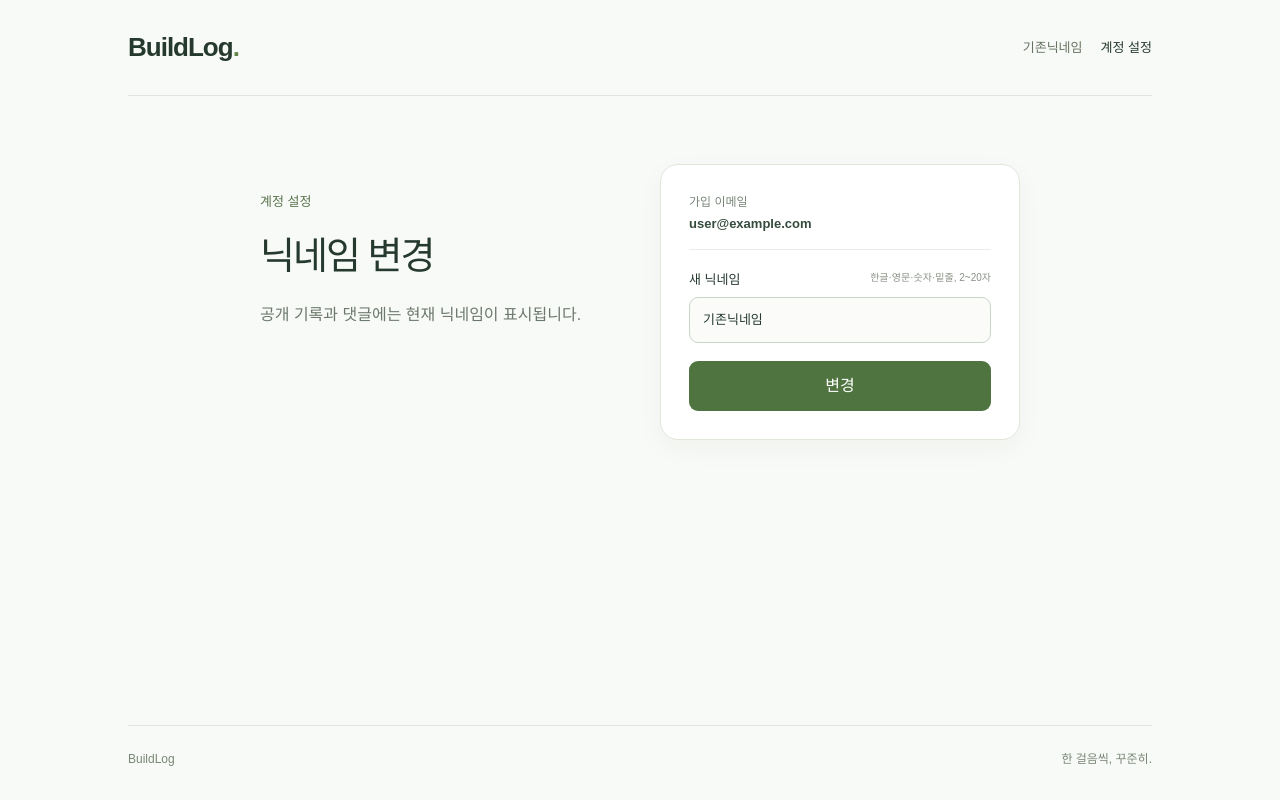
Test: logged-in user can change their nickname
Replace the text in the field labelled "새 닉네임 한글·영문·숫자·밑줄, 2~20자" with "새닉네임": [840, 320] box [689,297,991,342]
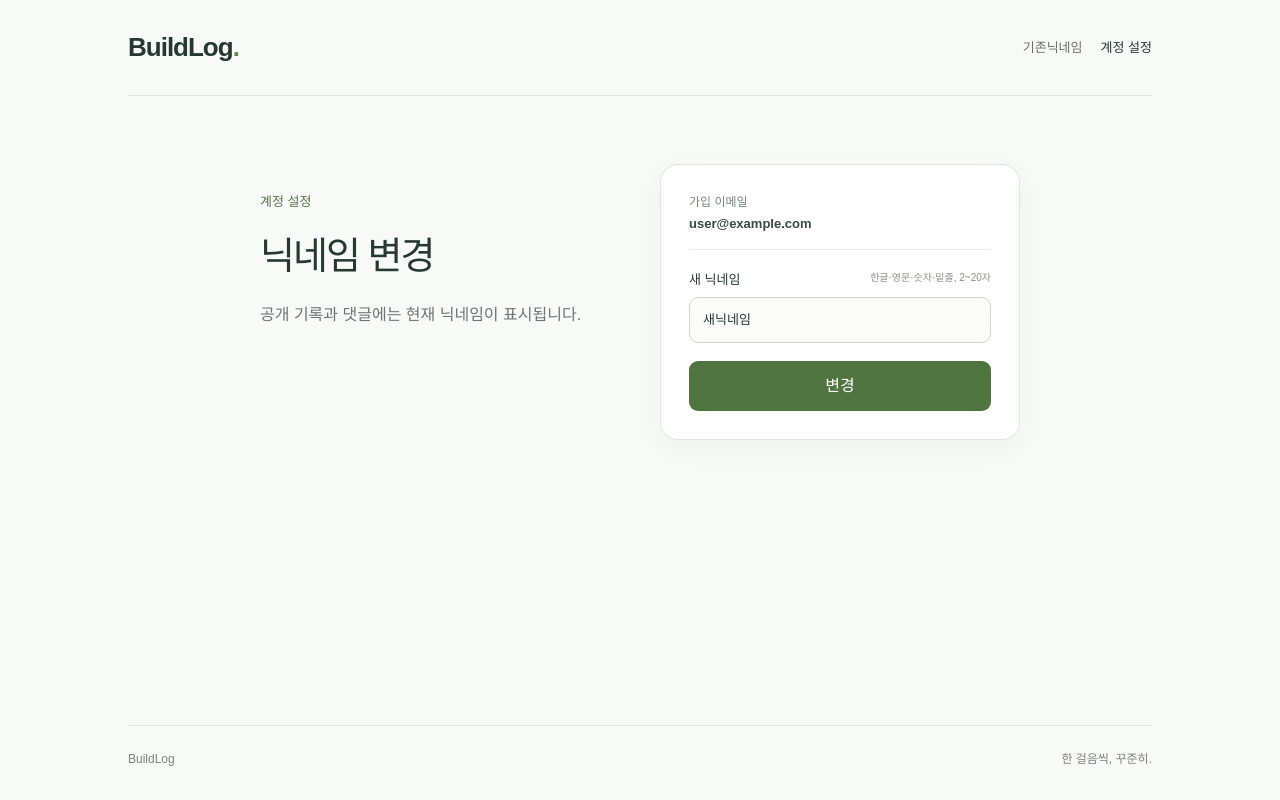
Click the button "변경": [840, 386] box [689,360,991,410]
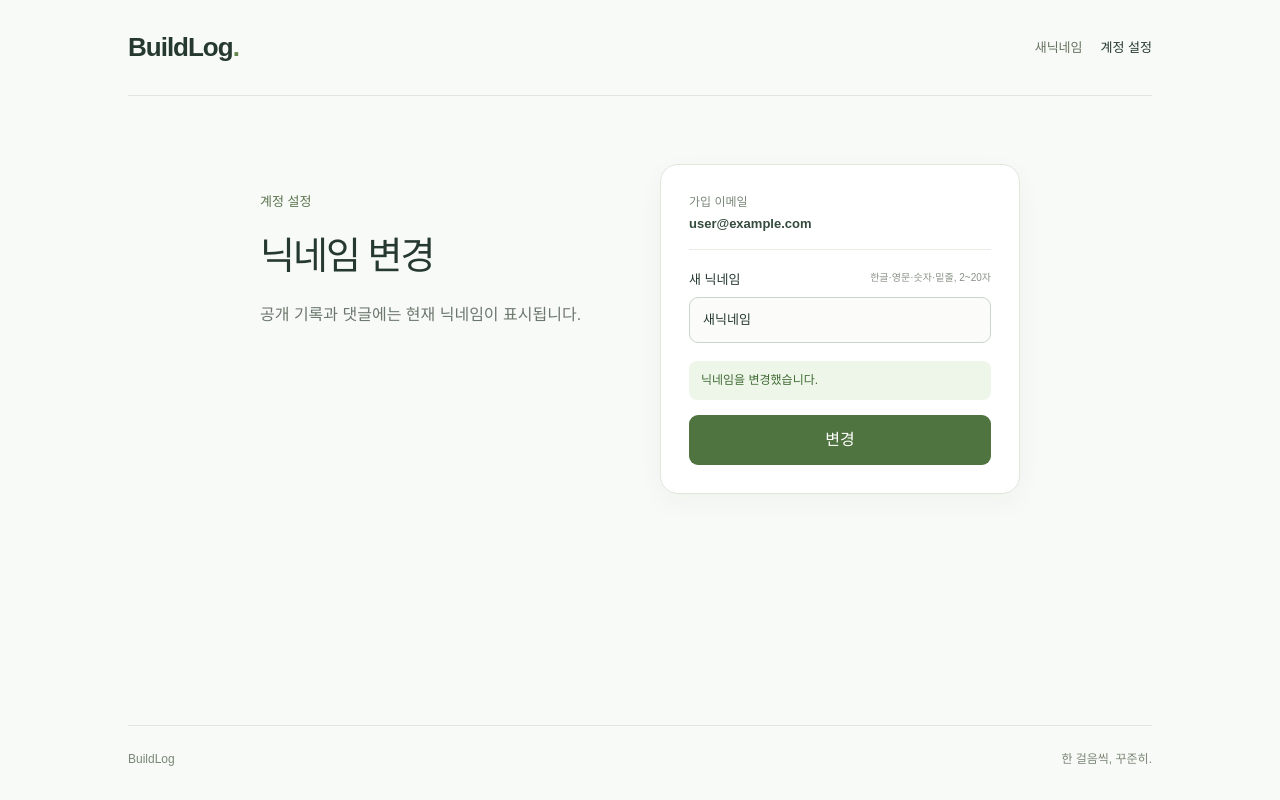
Check: the message reads "닉네임을 변경했습니다.", box [701,372,818,386]
Check: the text "새닉네임" is shown, box [1035,38,1082,57]
